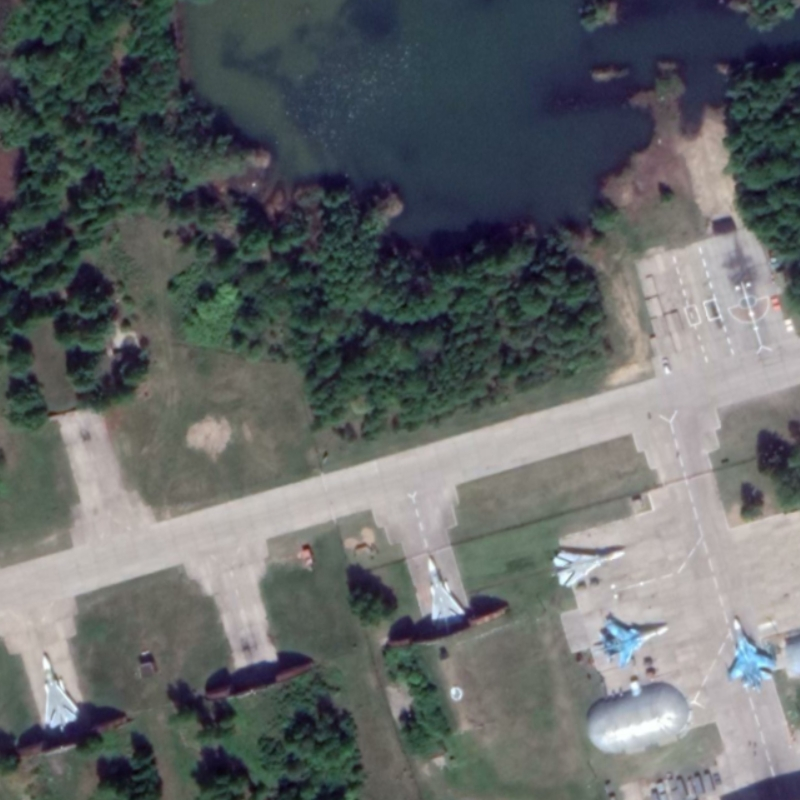A19: (721, 614, 779, 692), (594, 614, 672, 671)
A20: (422, 550, 472, 636), (547, 541, 631, 592), (34, 648, 82, 736)
